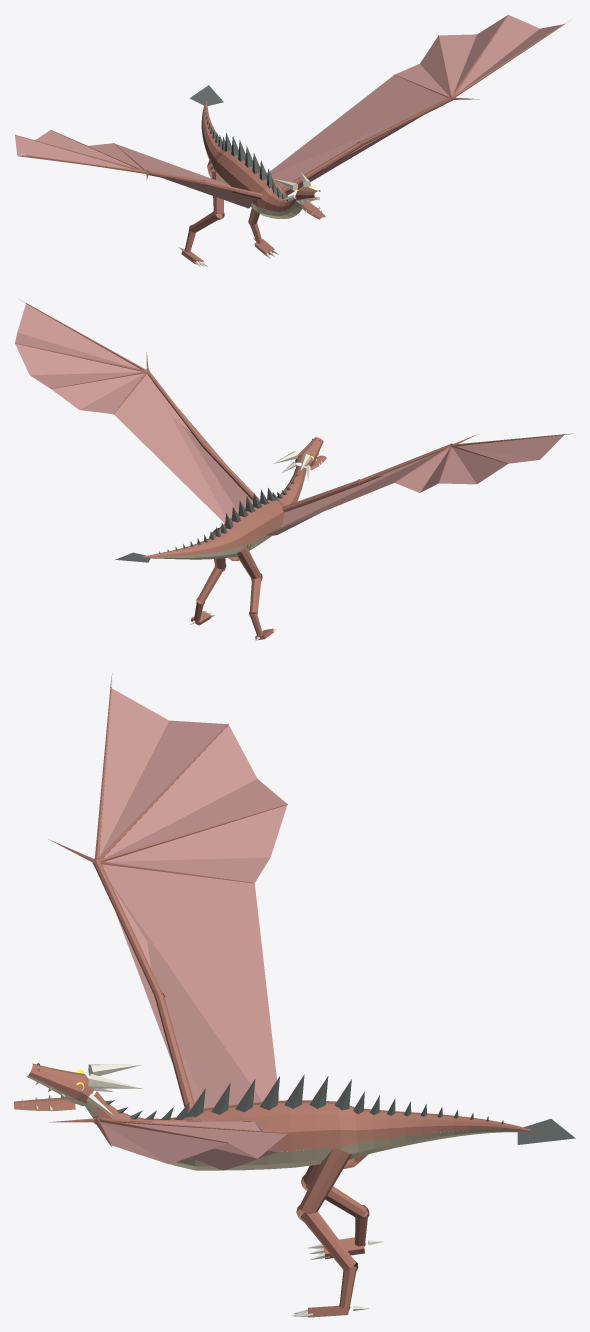
The model's file is dragons-and-wyverns-wyvern-wings-spread-a6d1b274.glb.
3 views of the same model, one above another, from view 1: azimuth 30°, elevation 25°; view 2: azimuth 150°, elevation 25°; view 3: azimuth 270°, elevation 25° (orthographic). The views are drawn at different scales.
Parts seen in each view (by area): view 1: wyvern-wings-spread; view 2: wyvern-wings-spread; view 3: wyvern-wings-spread.
Boxes of the visible parts, x1,y1,x2,y2 form: wyvern-wings-spread: (15, 14, 573, 267); wyvern-wings-spread: (15, 298, 573, 641); wyvern-wings-spread: (14, 671, 575, 1317).
Size of the model in its own units: 12.87 by 4.8 by 6.4.
